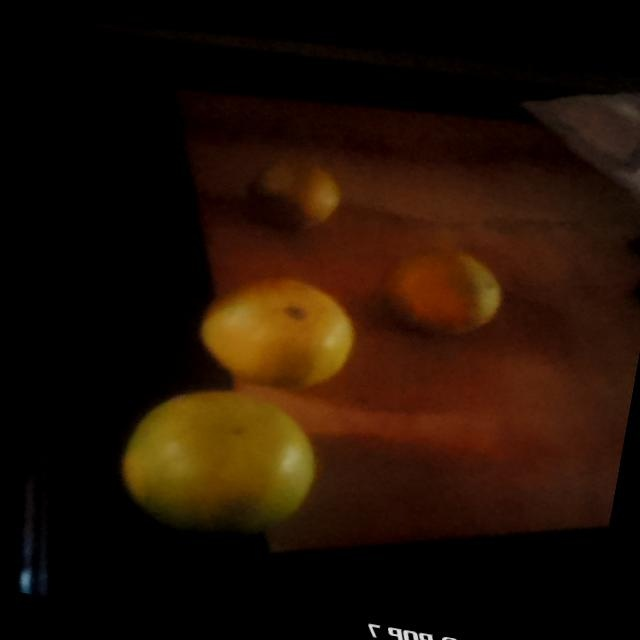agrume: (91, 373, 345, 556), (164, 256, 372, 401), (364, 235, 520, 345), (229, 143, 357, 244)
